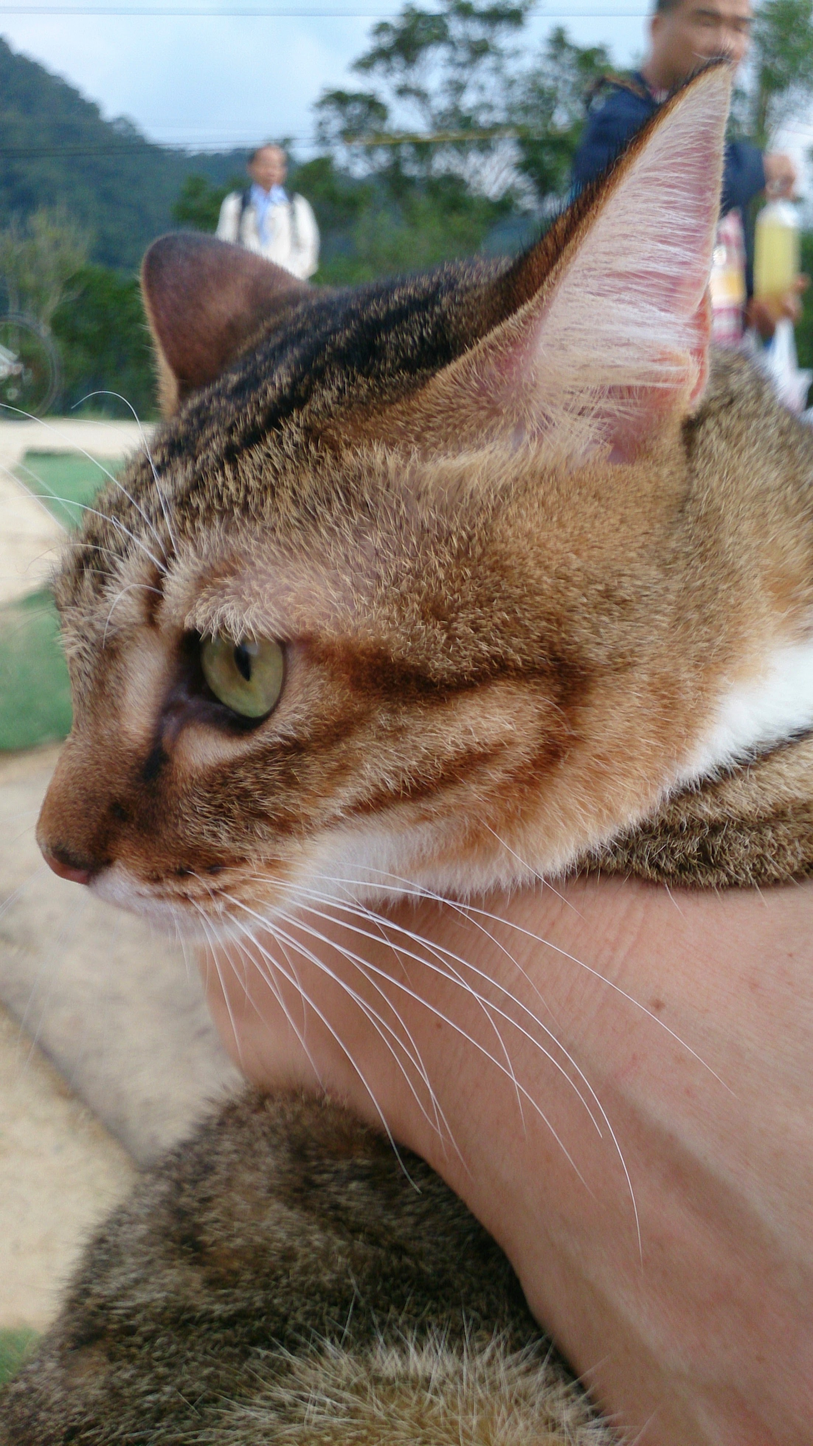cat: (0, 61, 813, 1446)
